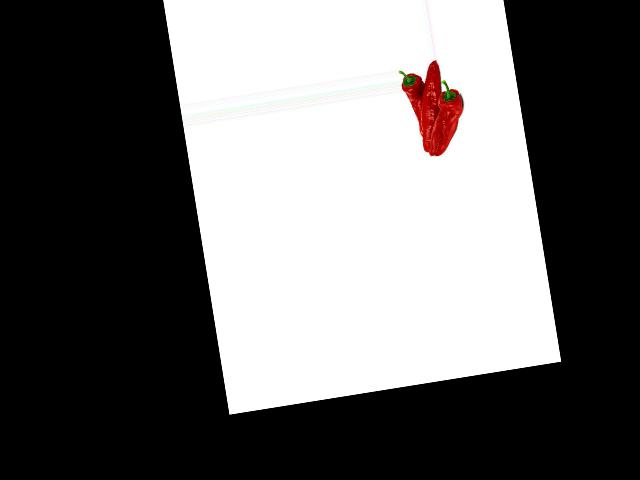bell_pepper: (426, 75, 472, 156)
